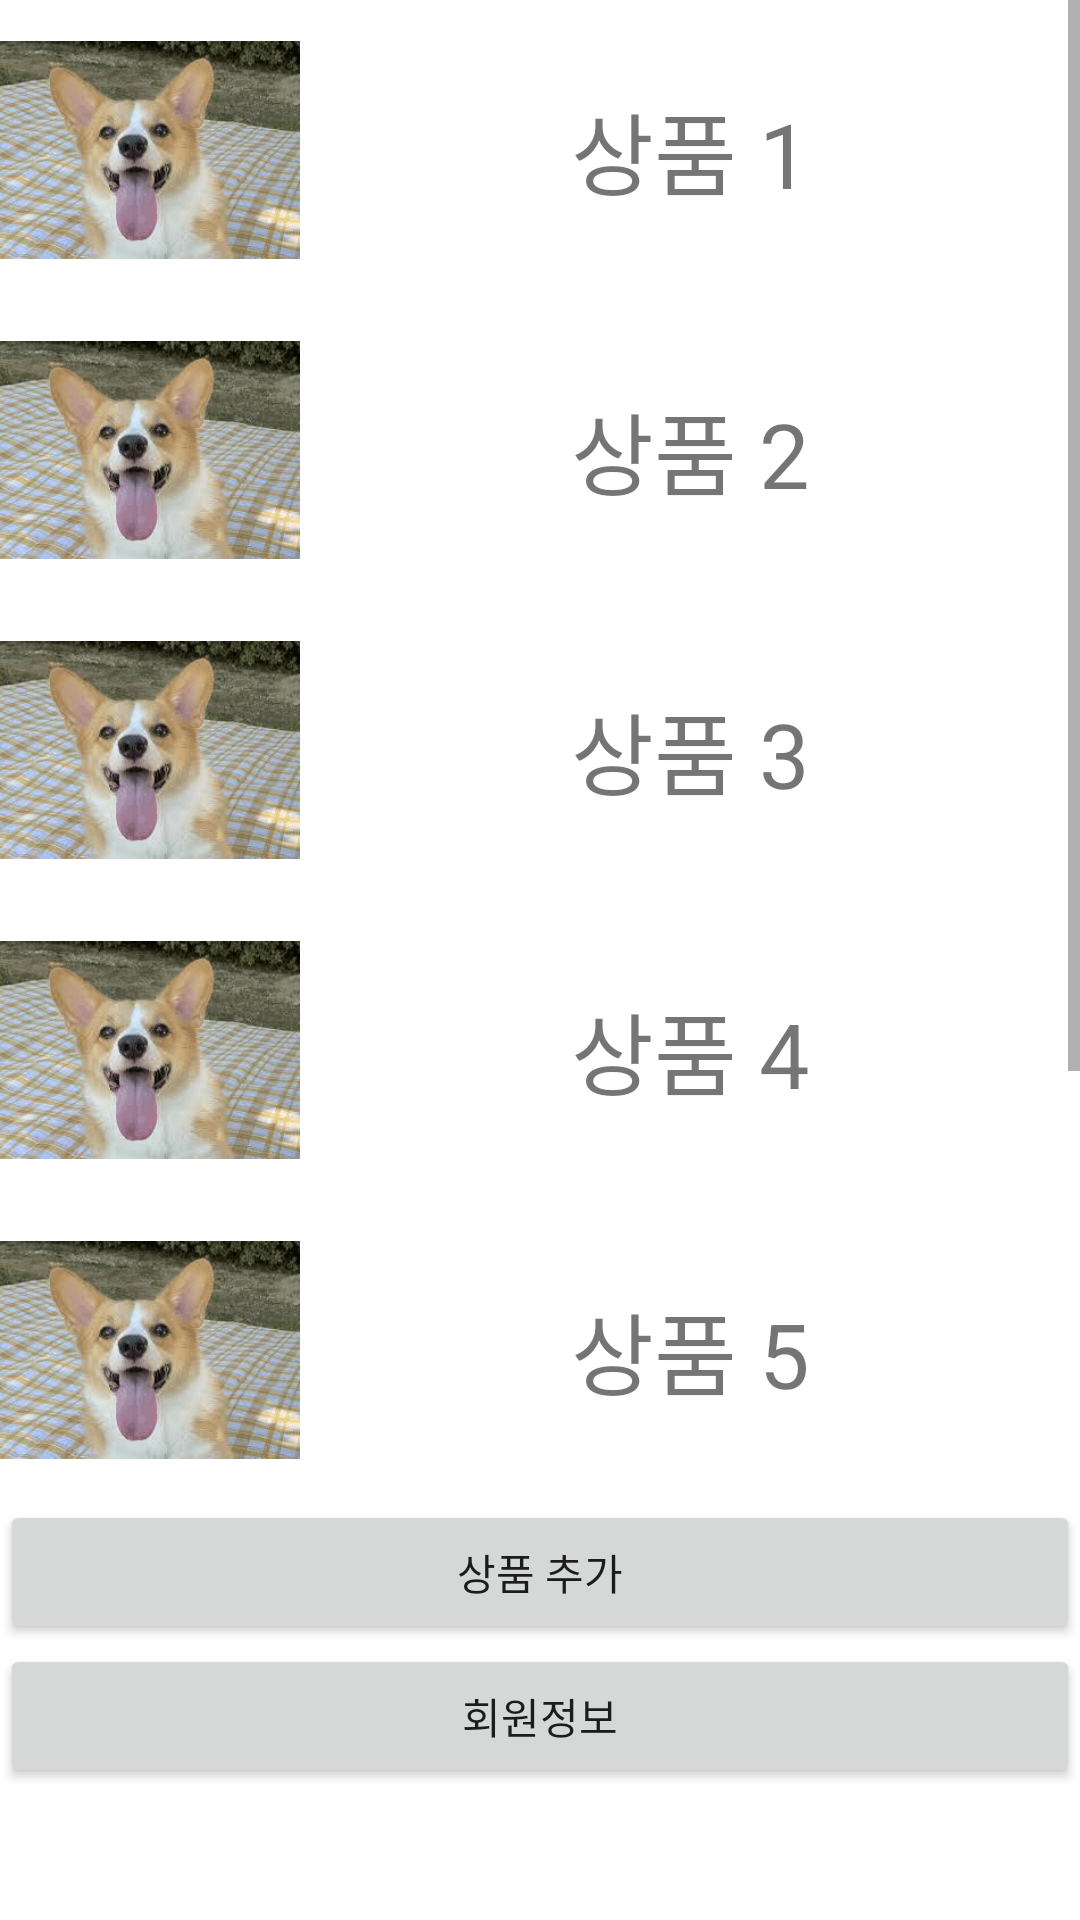

Locate icon controls on the screen. Image size 1080px×1920px, boxes as (x1, y1, x2, y2).
doggy: (0, 41, 300, 259), (0, 341, 300, 559), (0, 641, 300, 859), (0, 941, 300, 1159), (0, 1241, 300, 1459)
